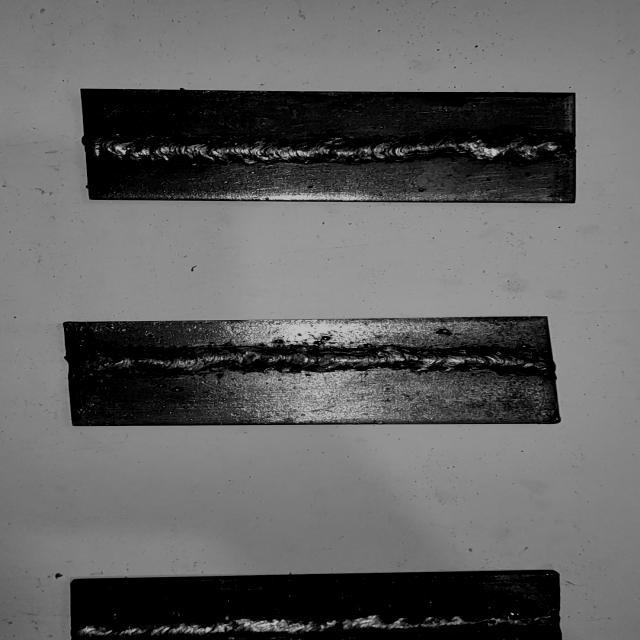Defect: (466, 132, 576, 166), (268, 332, 336, 354), (502, 610, 554, 634), (428, 323, 462, 342)
Welding Line: (86, 135, 570, 162), (76, 615, 560, 640), (71, 353, 548, 378)
Workpiece: (79, 86, 581, 204), (64, 318, 560, 426), (67, 574, 563, 640)
